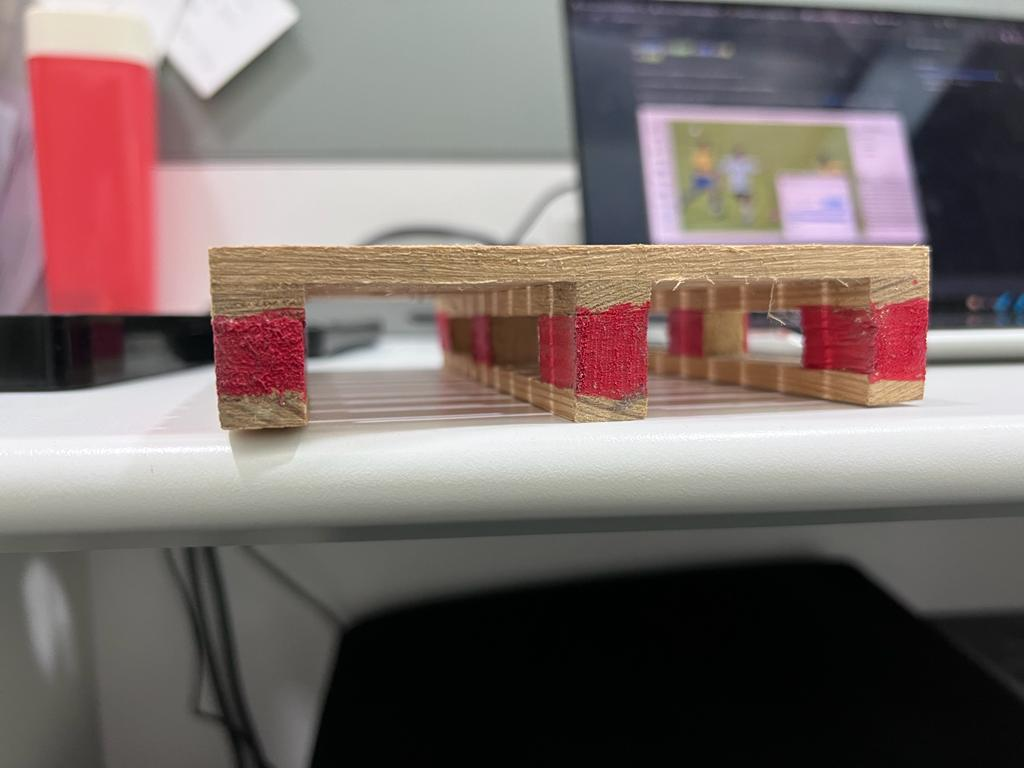pallet: (192, 237, 927, 421)
